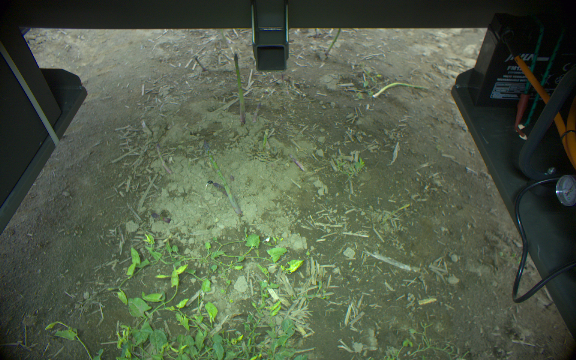aspa: (201, 143, 244, 219), (372, 81, 430, 98), (233, 52, 246, 126), (153, 142, 172, 173), (323, 29, 342, 58), (286, 153, 305, 174), (249, 100, 260, 125), (260, 127, 271, 149), (191, 55, 205, 70)
